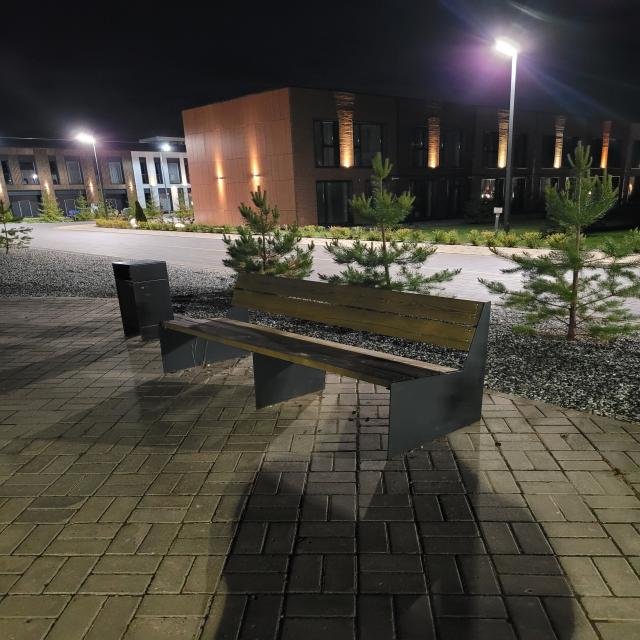Bench: (159, 272, 491, 461)
